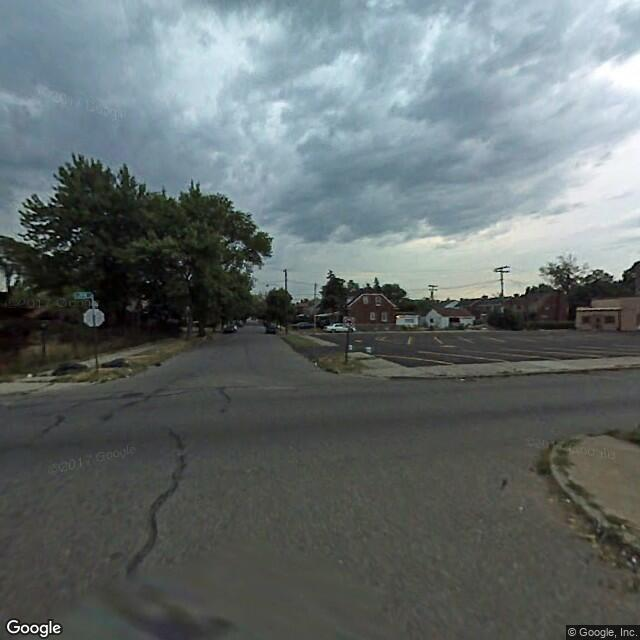litter: (623, 548, 640, 566), (309, 356, 324, 371), (22, 369, 35, 380)
